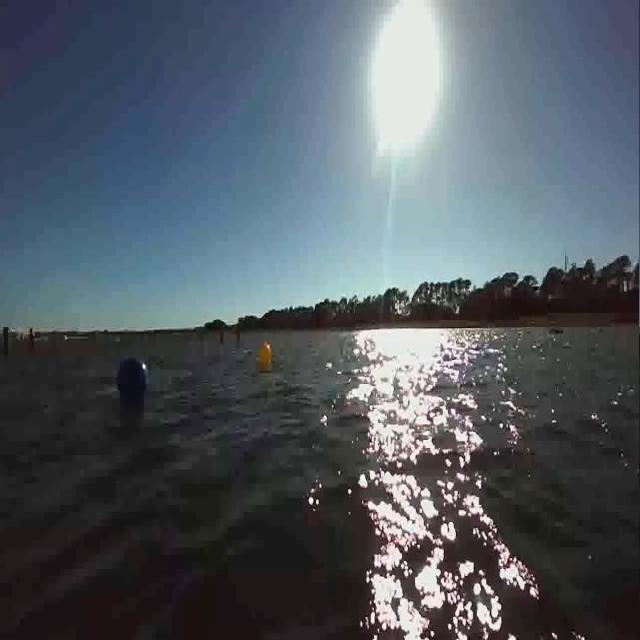blue-buoy: (115, 354, 149, 404)
yellow-buoy: (260, 340, 274, 367)
